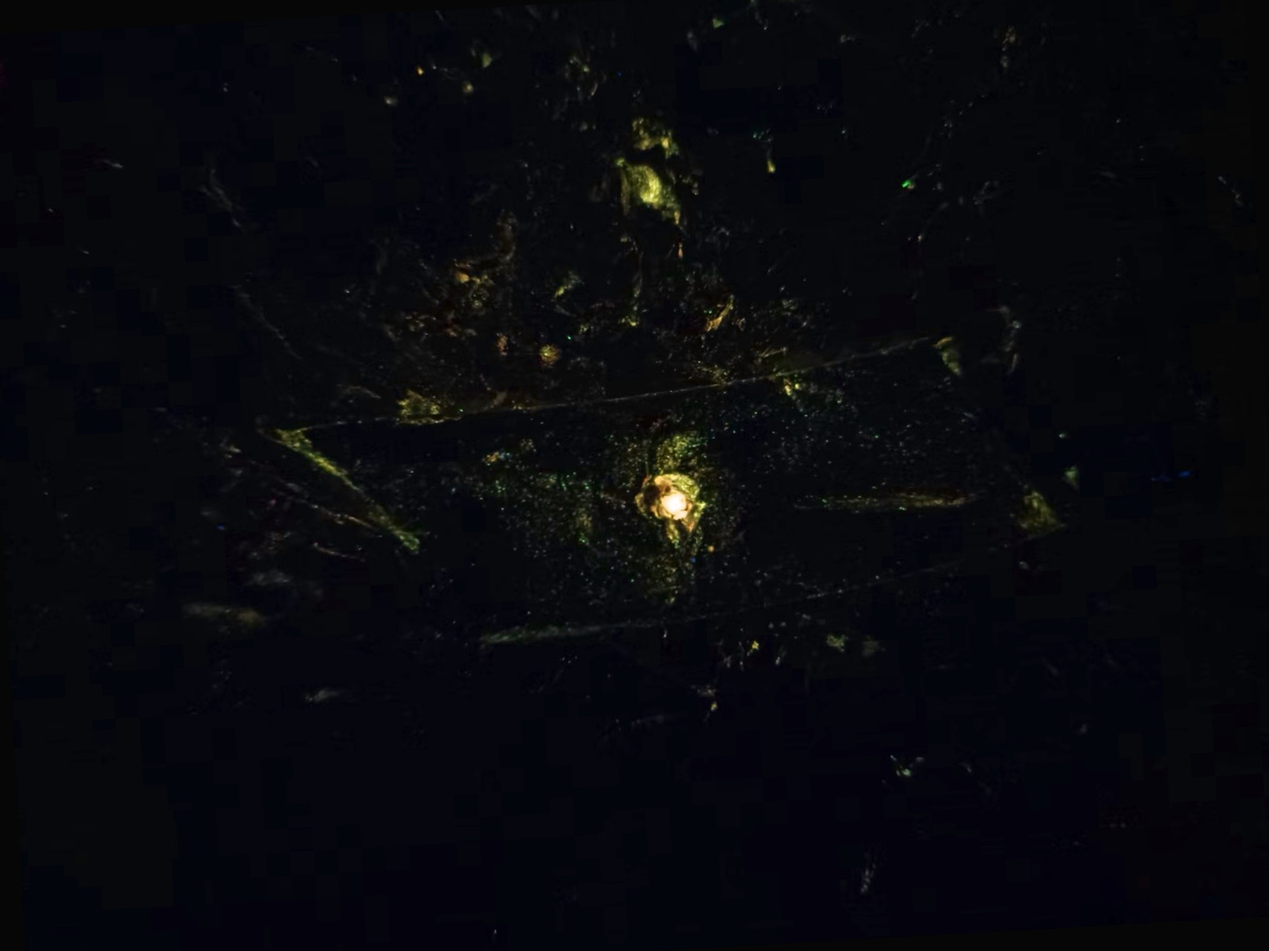Crater: (605, 446, 747, 568)
